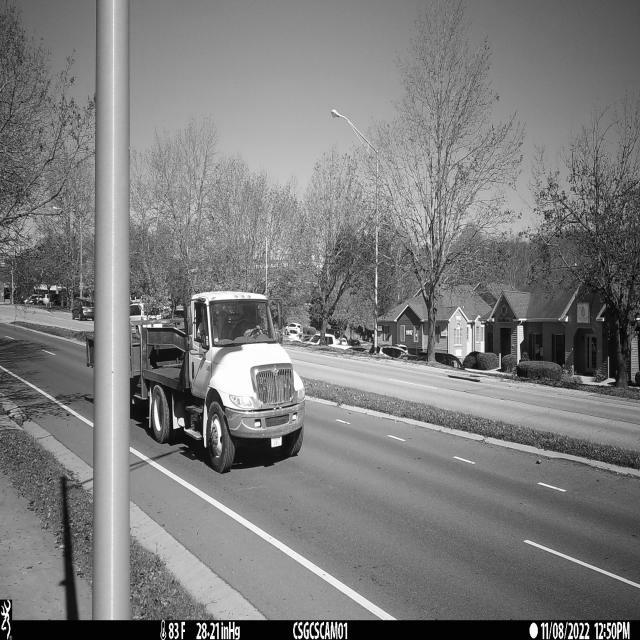Truck- 2-Axle: (134, 292, 305, 473)
